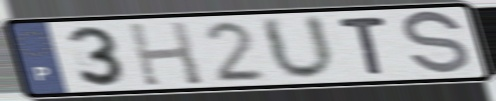2: (201, 19, 268, 84)
3: (63, 24, 130, 89)
H: (124, 19, 207, 88)
S: (400, 8, 473, 79)
T: (334, 15, 391, 77)
U: (255, 13, 341, 83)
